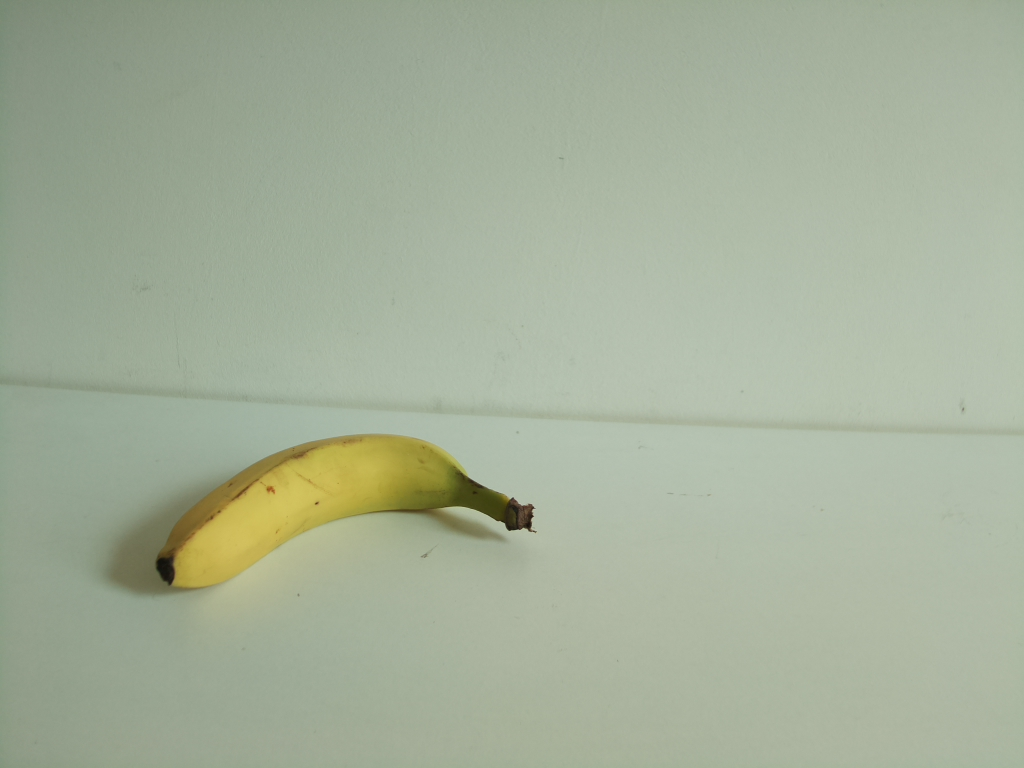banana: (156, 431, 536, 589)
